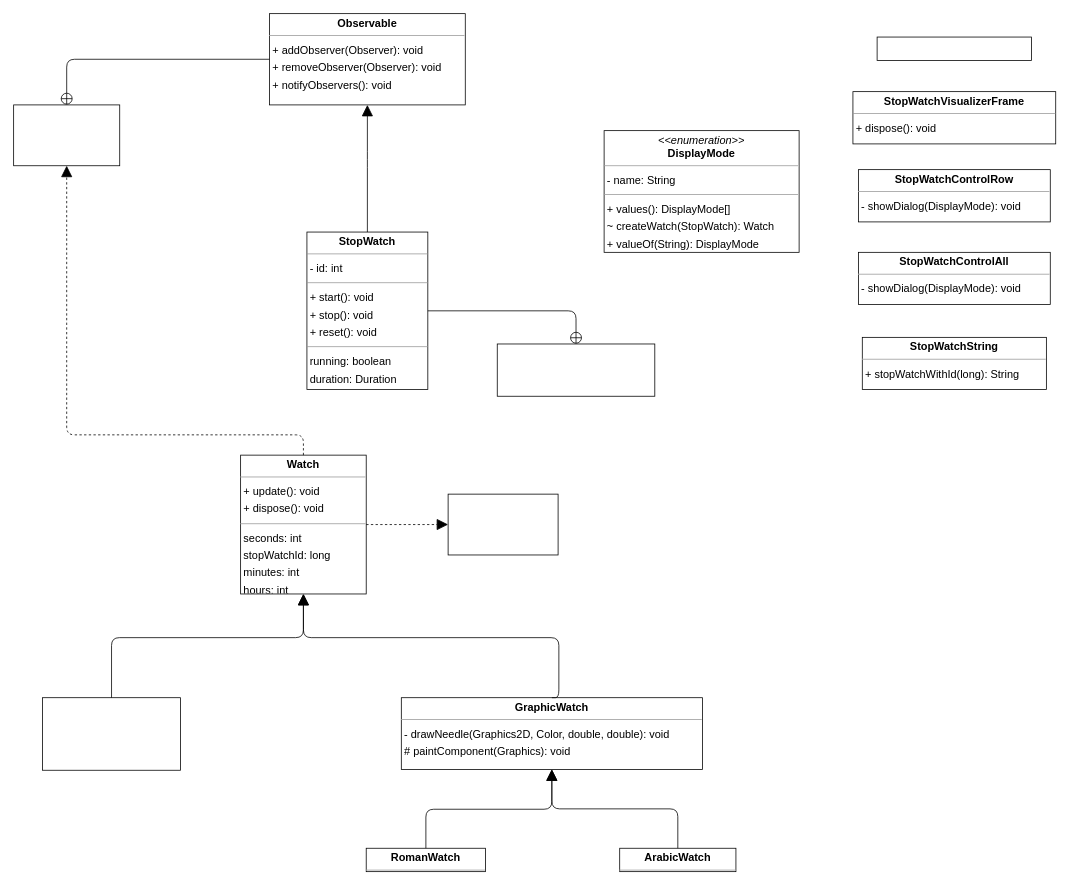
Image size: 1069x885. Some labels were removed from this diagram. Each missing label, with the centre of its shape:
<<interface>> Disposable + dispose(): void: pixel 502 524
<<interface>> Observer + update(): void: pixel 66 135
ControlPanelFrame: pixel 954 48
CountIncreaseTask + run(): void: pixel 575 369
NumericWatch + update(): void formattedText: String: pixel 111 733
